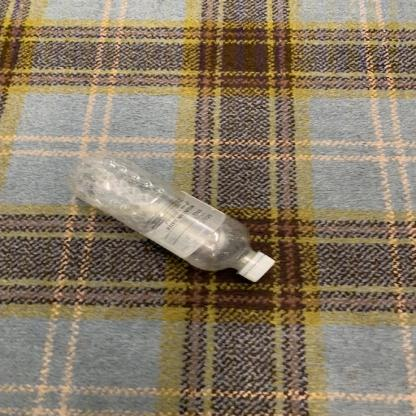trash: (70, 155, 278, 284)
